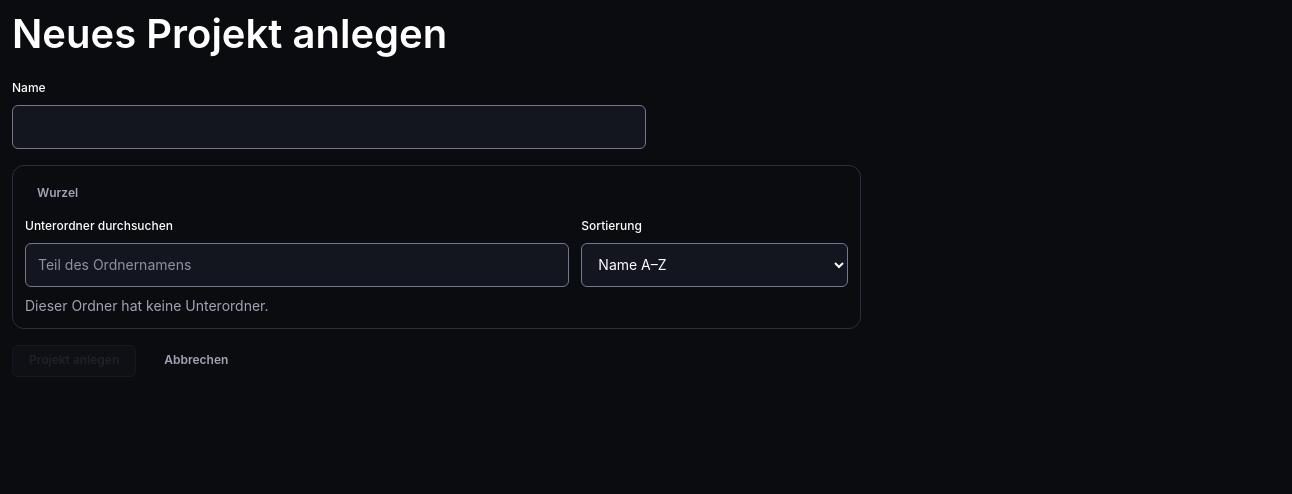
Test case: ProjectCreatePage › shows the backend detail and keeps the form editable on a 400 invalid-folder error
Type "Costa Rica" into the field labelled "Name" at coordinates (329, 127), box [12,105,646,149]
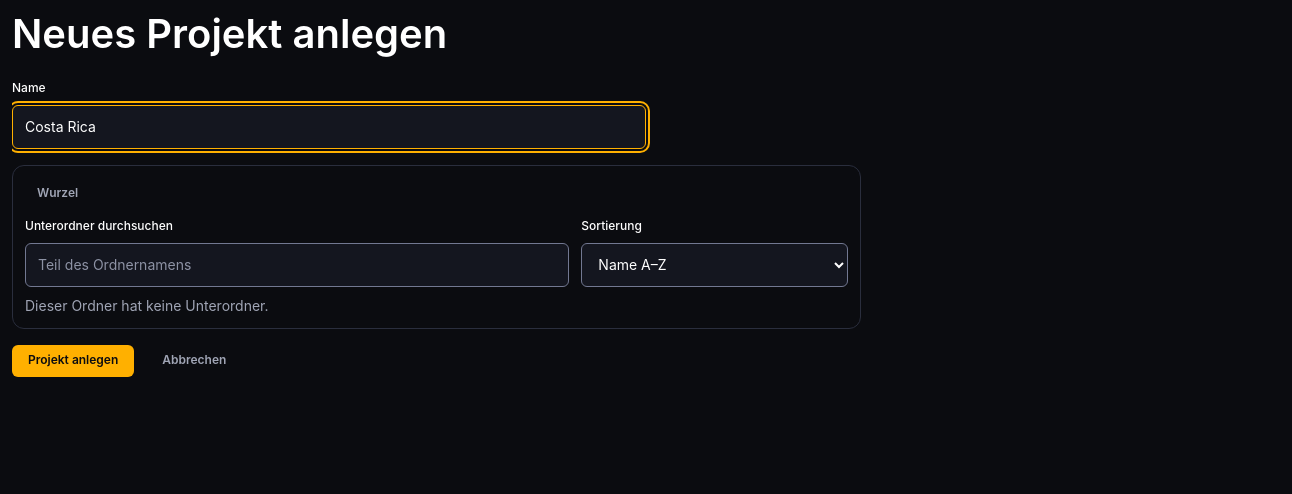
Click the button "Projekt anlegen" at coordinates (73, 361), box [12,345,134,377]
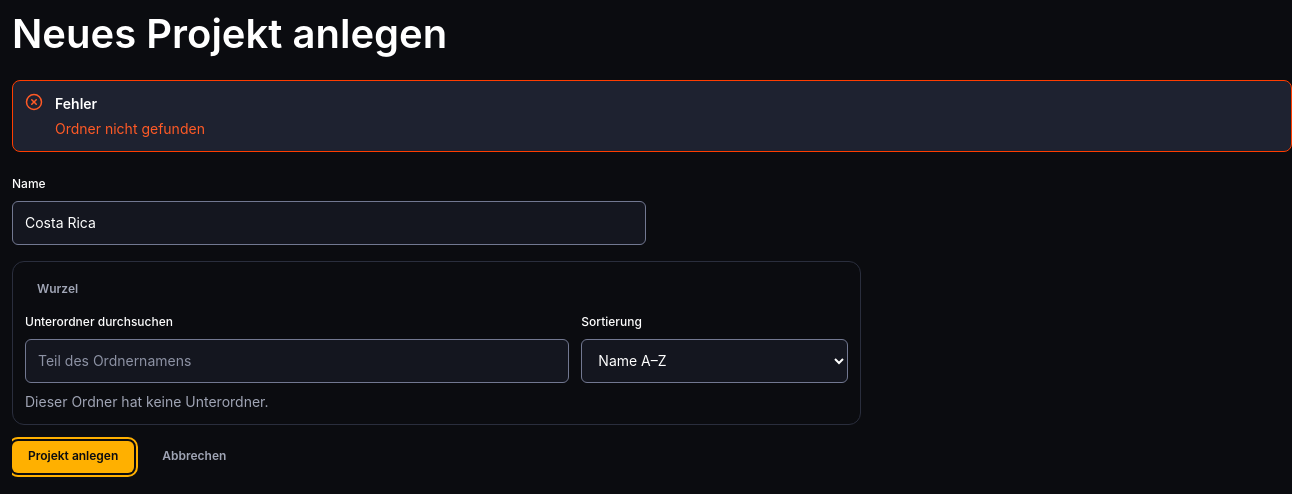
Expected: the field labelled "Name" is enabled, [12,201,646,245]
Expected: the message shows "Ordner nicht gefunden", [55,120,205,137]
